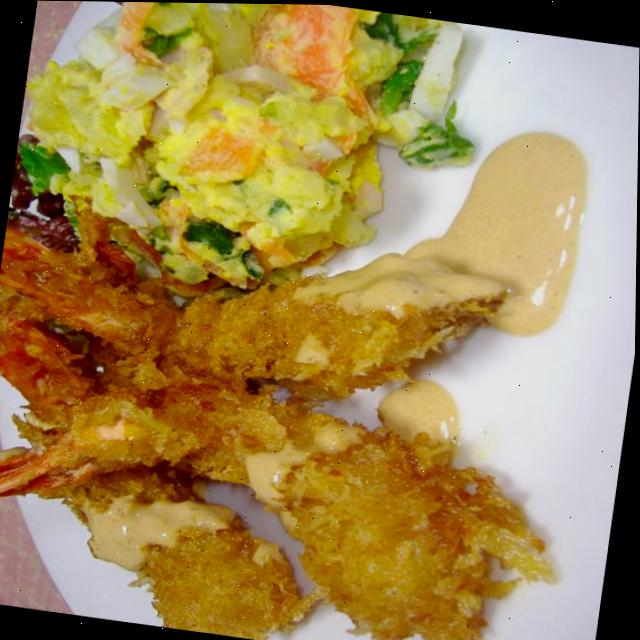炸货点心: (0, 161, 615, 640)
熟制海鲜: (0, 161, 615, 640)
